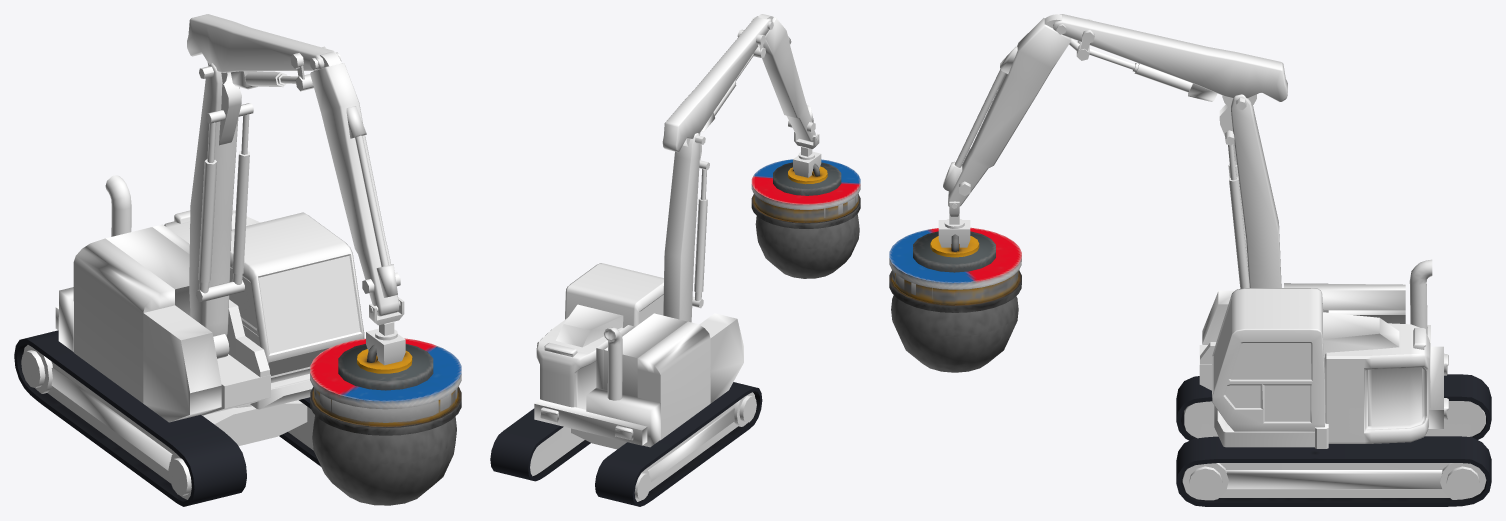
File: vehicle-v7.glb
3 views of the same model, side by side, from view 1: azimuth 30°, elevation 25°; view 2: azimuth 150°, elevation 25°; view 3: azimuth 270°, elevation 25° (orthographic). The views are drawn at different scales.
Visible parts, largest first — view 1: body, Crane_Pipe, Crane, Magnet4.001, Magnet3.001, Magnet2.001; view 2: body, Crane_Pipe, Crane, Magnet4.001, Magnet3.001, Magnet2.001; view 3: body, Crane_Pipe, Crane, Magnet4.001, Magnet3.001, Magnet2.001.
Boxes of the visible parts, x1,y1,x2,y2 form: body: [55, 175, 364, 422]; Crane_Pipe: [187, 14, 405, 365]; Crane: [14, 330, 320, 506]; Magnet4.001: [312, 344, 456, 505]; Magnet3.001: [310, 338, 461, 435]; Magnet2.001: [314, 344, 456, 422]; body: [534, 263, 743, 447]; Crane_Pipe: [662, 14, 821, 322]; Crane: [490, 382, 762, 506]; Magnet4.001: [755, 163, 859, 278]; Magnet3.001: [751, 159, 860, 228]; Magnet2.001: [773, 162, 858, 217]; body: [1199, 259, 1448, 448]; Crane_Pipe: [938, 14, 1287, 288]; Crane: [1176, 374, 1491, 506]; Magnet4.001: [891, 234, 1018, 372]; Magnet3.001: [889, 227, 1021, 312]; Magnet2.001: [892, 231, 995, 298].
Bounding box in the file's own units: 4.42 × 10.53 × 13.27.
6 materials, 4 textured.
